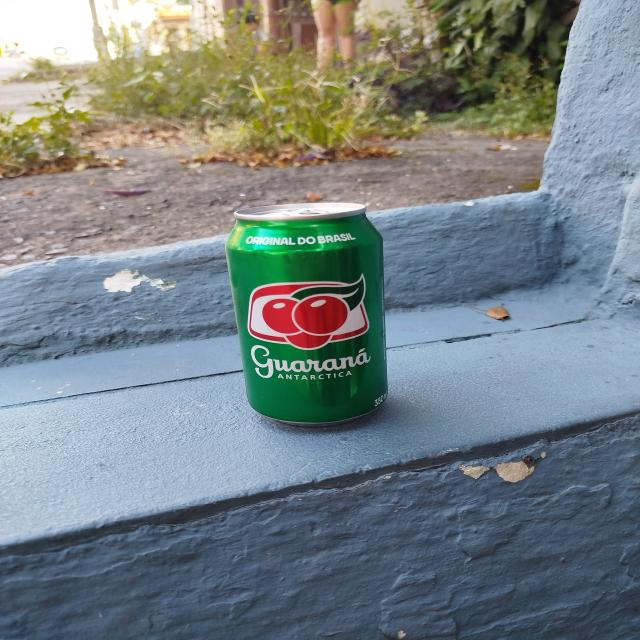Guarana: (226, 201, 391, 428)
